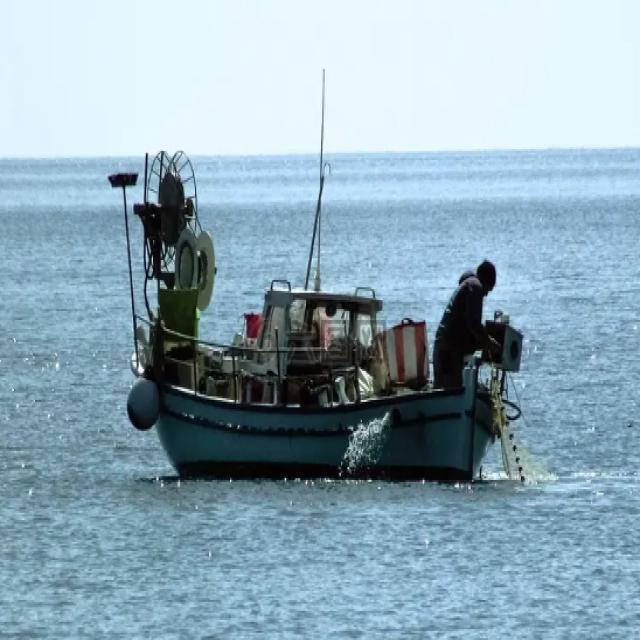fishing boat: (114, 145, 519, 495)
